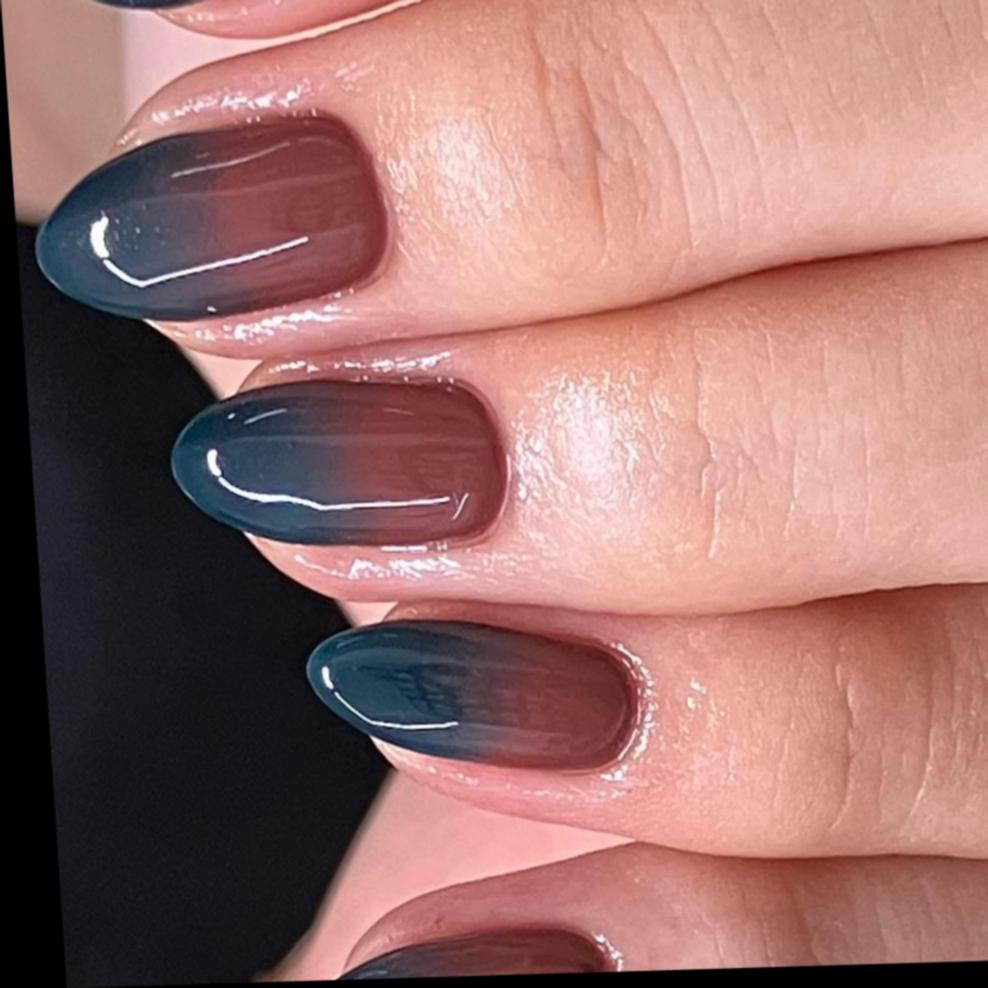nail: (23, 110, 392, 326), (162, 371, 511, 555), (299, 610, 647, 783), (293, 922, 613, 981)
